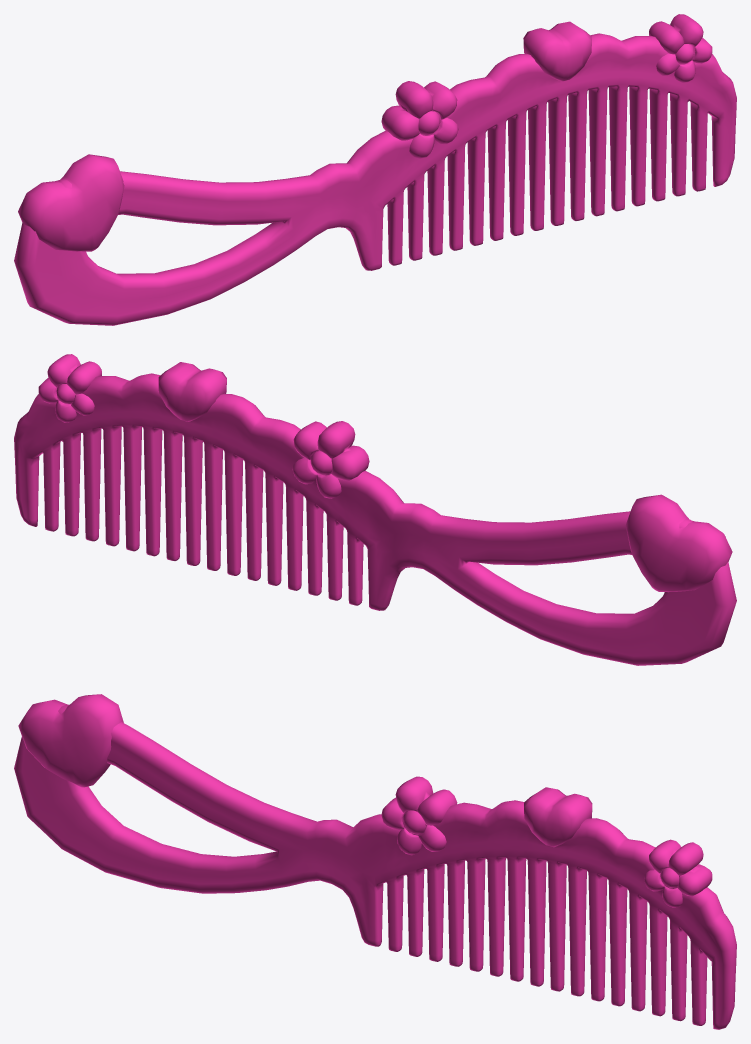
Rendered from comb.glb.
The picture shows the model from 3 angles, top to bottom: view 1: azimuth 30°, elevation 25°; view 2: azimuth 150°, elevation 25°; view 3: azimuth 330°, elevation 25°; orthographic projection.
Visible parts, largest first — view 1: comb; view 2: comb; view 3: comb.
Boxes of the visible parts, x1=… form: comb: x1=14, y1=14, x2=736, y2=325; comb: x1=14, y1=354, x2=736, y2=665; comb: x1=14, y1=694, x2=736, y2=1029.
Bounding box in the file's own units: 0.2043 × 0.0528 × 0.012.
